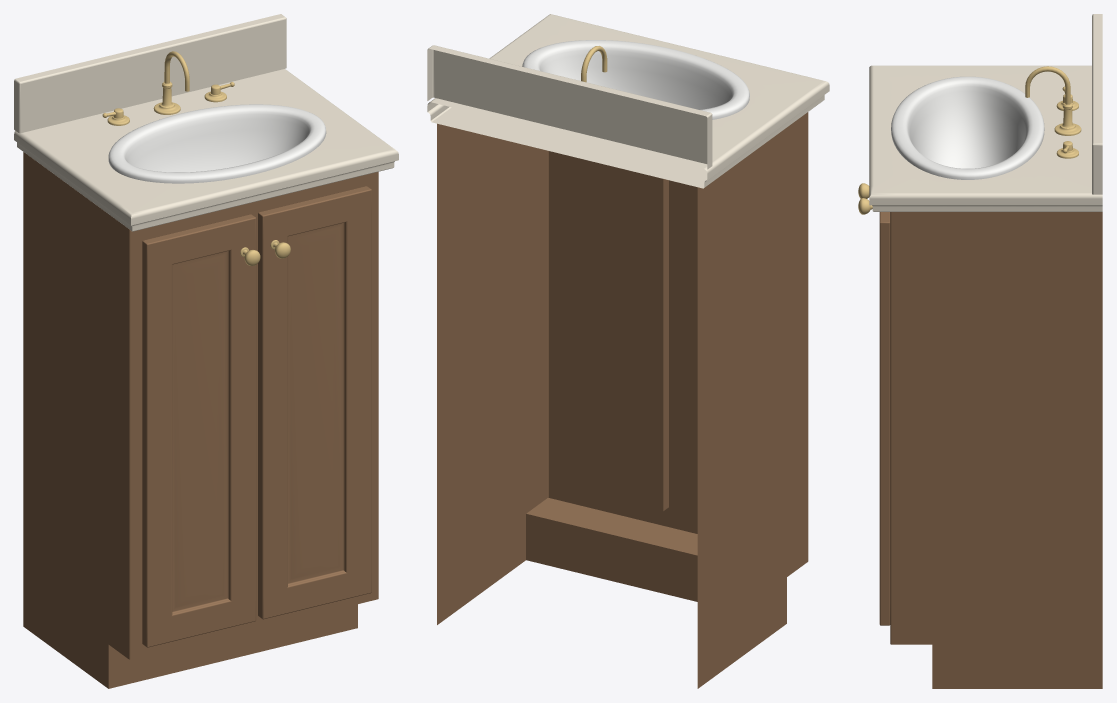
File: Cabinet.fbx
The picture shows the model from 3 angles, left to right: view 1: azimuth 30°, elevation 25°; view 2: azimuth 150°, elevation 25°; view 3: azimuth 270°, elevation 25°; orthographic projection. The views are drawn at different scales.
Parts seen in each view (by area): view 1: Cabinet, Cabinet_Countertop, Cabinet_Sink, Cabinet_Faucet; view 2: Cabinet, Cabinet_Countertop, Cabinet_Sink; view 3: Cabinet, Cabinet_Countertop, Cabinet_Sink, Cabinet_Faucet.
Part boxes in pixels (x1,y1,x2,y2): Cabinet: [23, 152, 378, 688]; Cabinet_Countertop: [14, 14, 398, 231]; Cabinet_Sink: [108, 104, 326, 183]; Cabinet_Faucet: [102, 51, 234, 125]; Cabinet: [437, 112, 808, 688]; Cabinet_Countertop: [427, 14, 829, 188]; Cabinet_Sink: [522, 40, 749, 119]; Cabinet: [858, 183, 1102, 688]; Cabinet_Countertop: [869, 14, 1102, 211]; Cabinet_Sink: [891, 76, 1044, 179]; Cabinet_Faucet: [1025, 66, 1081, 158].
Bounding box in the file's own units: 5.52 × 11.08 × 4.36.
